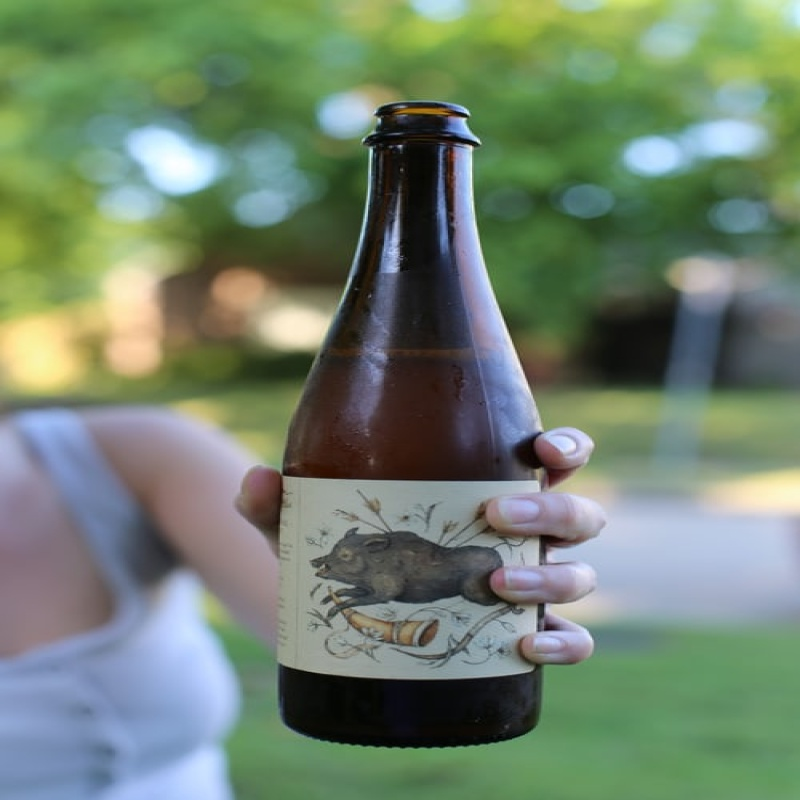wine: (281, 100, 543, 716)
